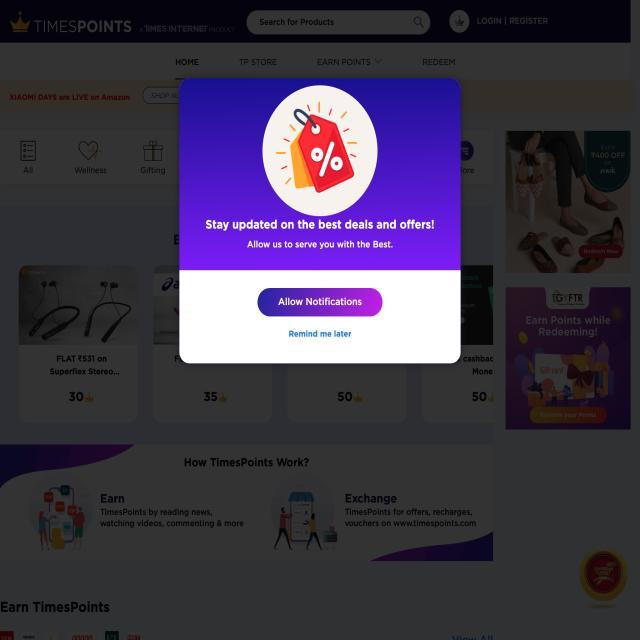button: (248, 277, 382, 325)
modal: (169, 70, 471, 376)
